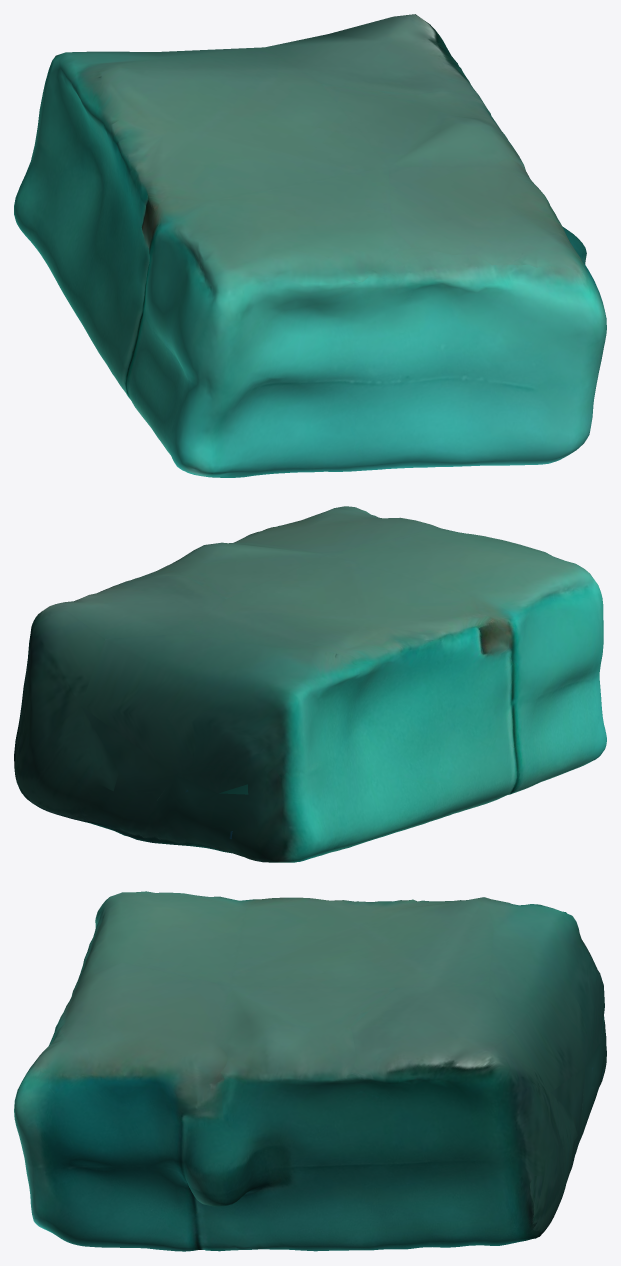
The model's file is BMO_v7.glb.
3 renders of one model, top to bottom at view 1: azimuth 30°, elevation 25°; view 2: azimuth 150°, elevation 25°; view 3: azimuth 270°, elevation 25°, orthographic. The views are drawn at different scales.
Parts seen in each view (by area): view 1: 3DModel; view 2: 3DModel; view 3: 3DModel.
Part boxes in pixels (x1=…): 3DModel: x1=14, y1=14, x2=606, y2=477; 3DModel: x1=14, y1=506, x2=606, y2=862; 3DModel: x1=14, y1=891, x2=606, y2=1251.
Size of the model in its own units: 0.2298 by 0.1328 by 0.2851.
Materials: 1 (1 with a texture image).
